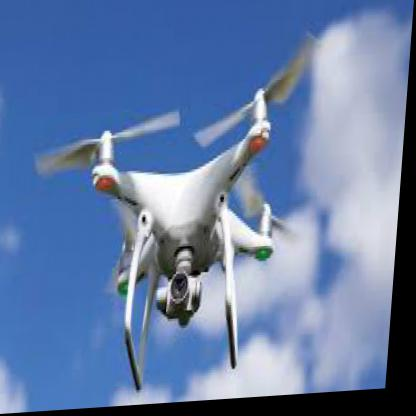UAS: (23, 44, 316, 397)
